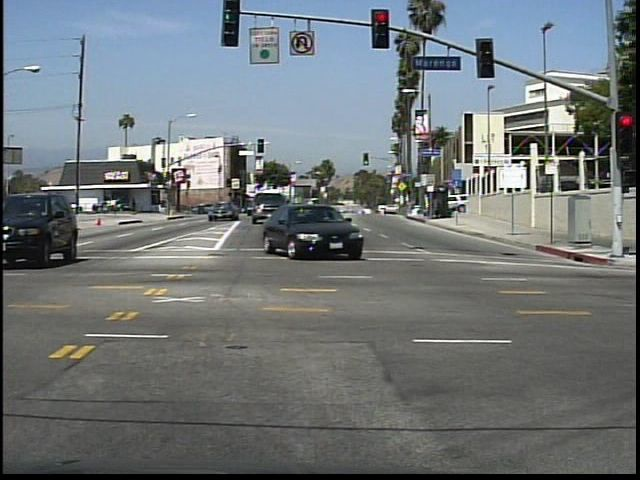person: (130, 195, 142, 219)
